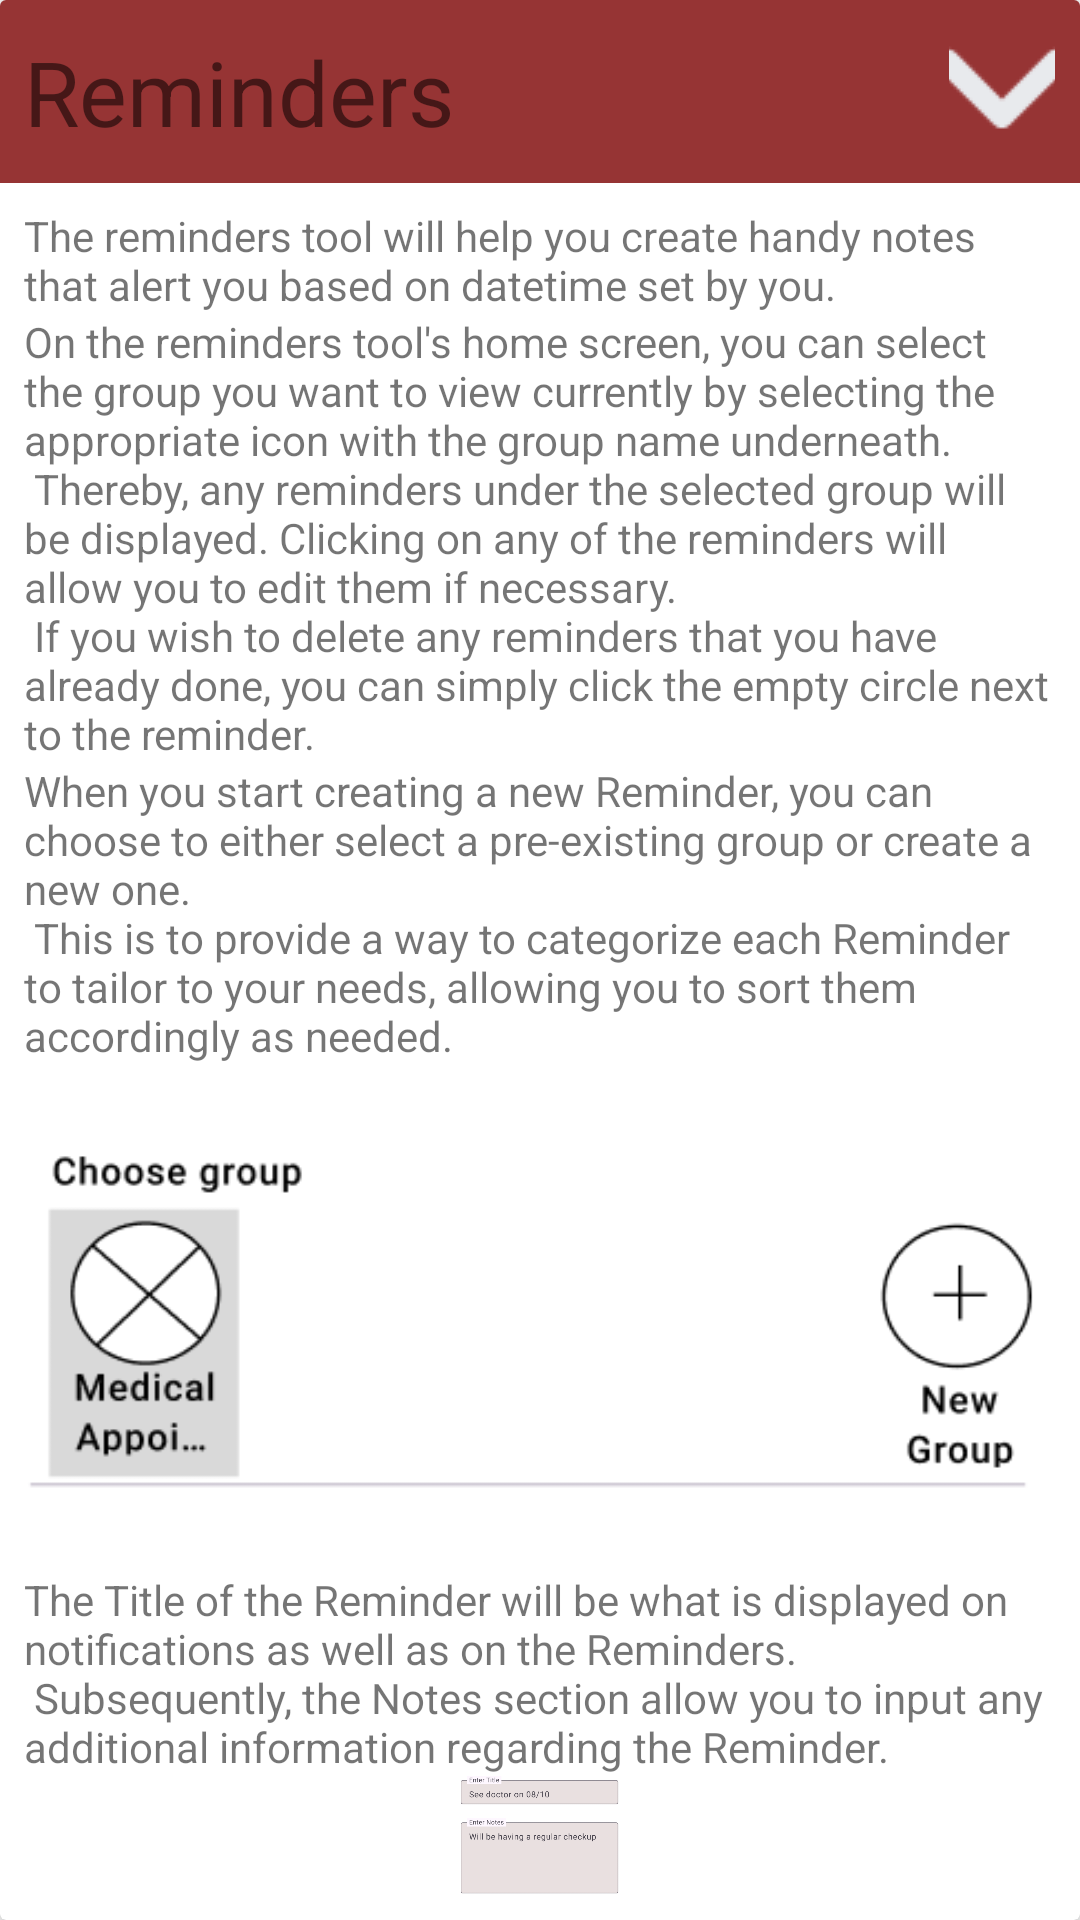

Named icons in this screenshot (1080*1920) and their centers, [x,y]:
arrow drop down: [1002,89]
